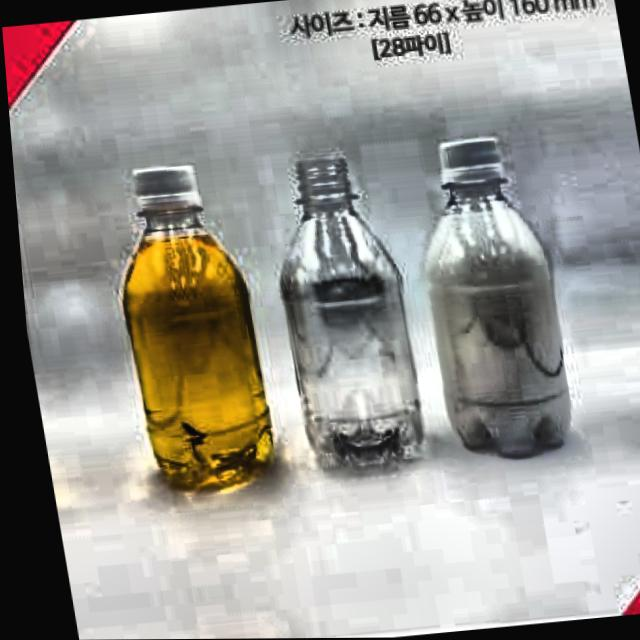Bottles: (351, 115, 612, 489), (211, 133, 441, 494), (75, 147, 296, 506)
